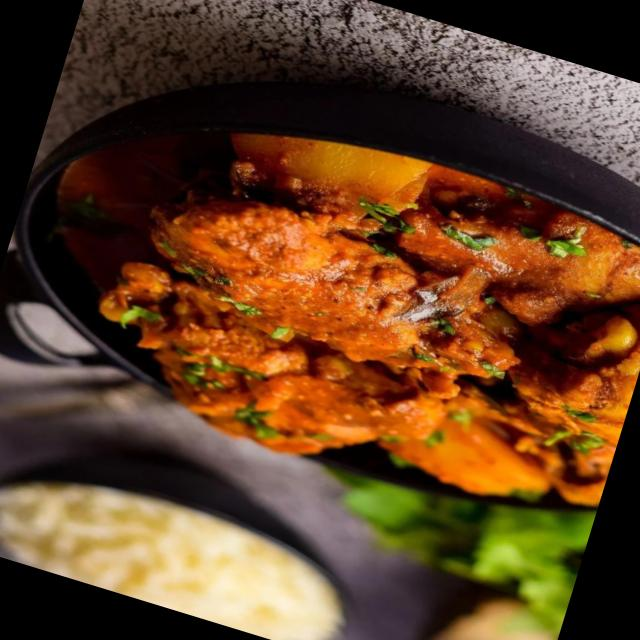chicken: (99, 112, 640, 515)
